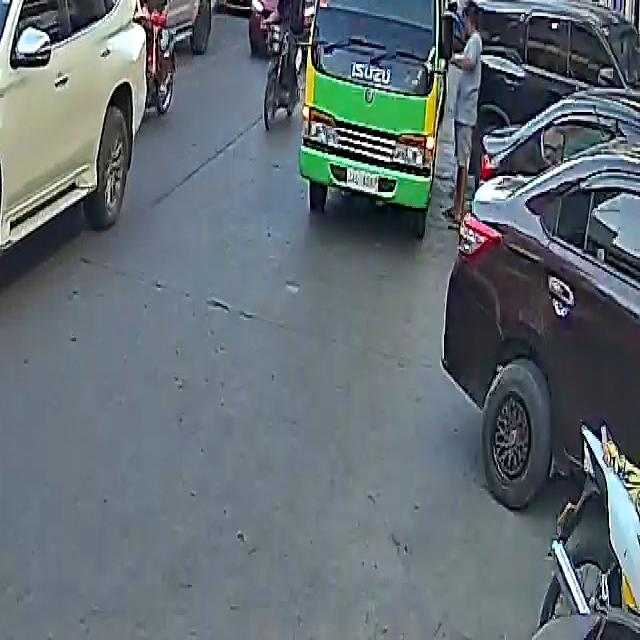car: (443, 69, 640, 522), (0, 0, 165, 332), (474, 0, 640, 151), (110, 0, 206, 41), (221, 0, 289, 16)
